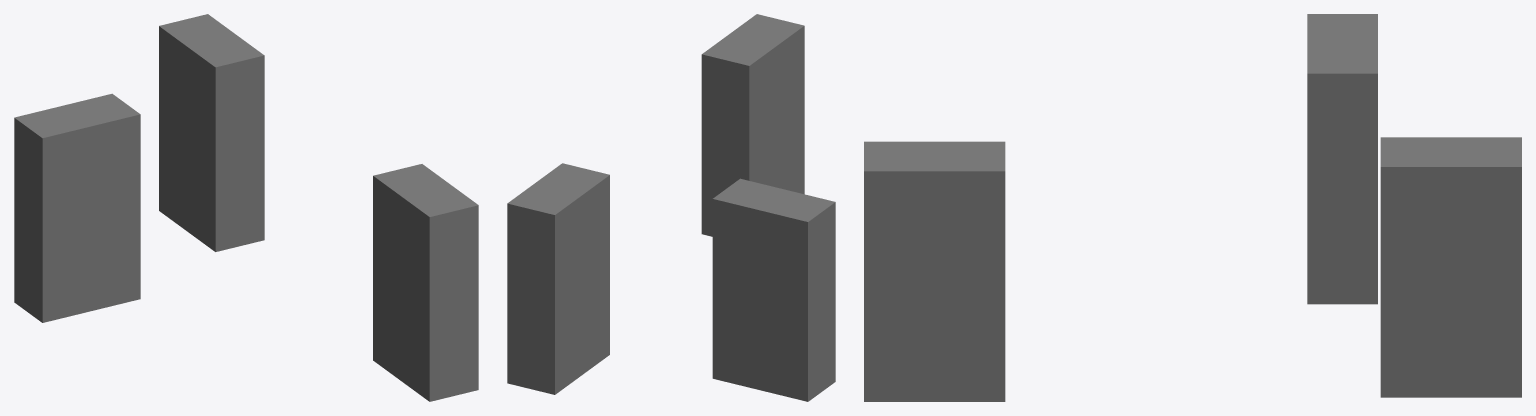
The picture shows the model from 3 angles, left to right: view 1: azimuth 30°, elevation 25°; view 2: azimuth 150°, elevation 25°; view 3: azimuth 270°, elevation 25°; orthographic projection. The views are drawn at different scales.
Parts seen in each view (by area): view 1: MD015; view 2: MD015; view 3: MD015.
Part boxes in pixels (box(x1,y1,x2,y2)): MD015: box(14, 14, 478, 401); MD015: box(507, 14, 835, 401); MD015: box(864, 14, 1521, 401).
Size of the model in its own units: 2636 by 1800 by 4655.
1 material, 1 textured.
